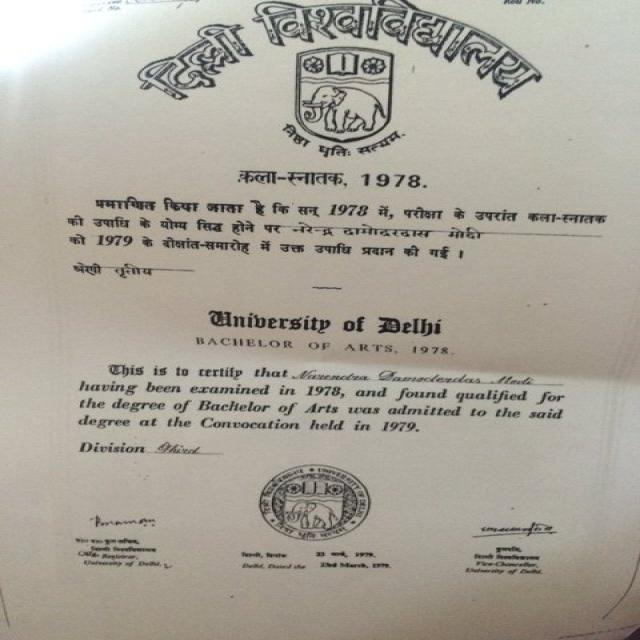degree: (183, 328, 465, 366)
stamp: (251, 460, 379, 550)
